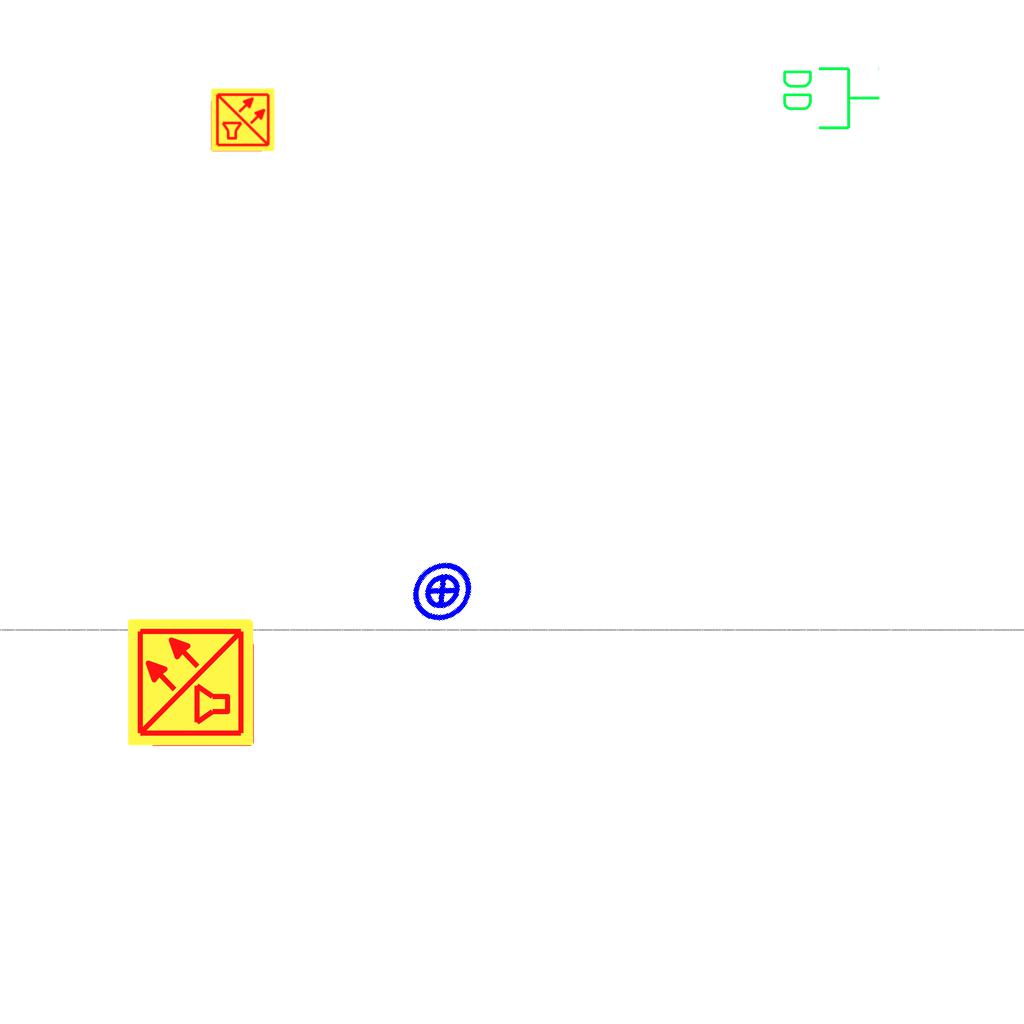Datenanschluss_zweifach: (779, 63, 882, 132)
OKW_Multisensormelder_(Kombination_optischer_Rauch-Kahlenmonoxid_Waerme-Melder): (125, 616, 257, 748), (210, 87, 276, 153)
Taster_beleuchtet: (395, 544, 489, 638)
